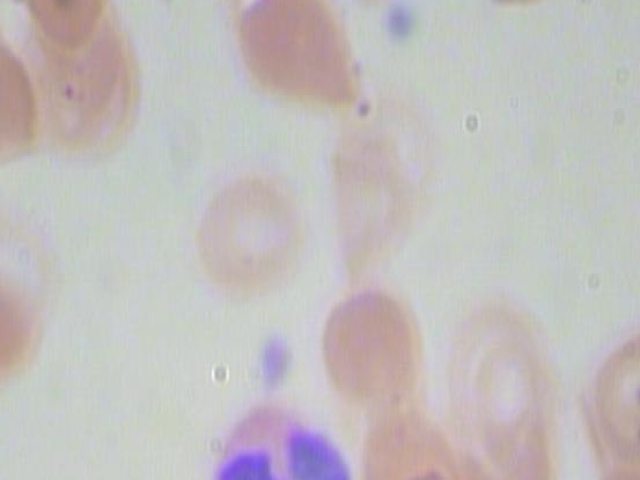Platelets: (247, 329, 299, 403), (373, 0, 425, 64)
RBC: (20, 8, 143, 163), (314, 129, 437, 283), (184, 164, 313, 298), (303, 275, 432, 409), (231, 0, 367, 112), (439, 296, 541, 428), (583, 308, 640, 463), (2, 0, 136, 56), (348, 436, 470, 480), (467, 0, 593, 23), (467, 459, 555, 480)
WBC: (189, 402, 365, 480)
